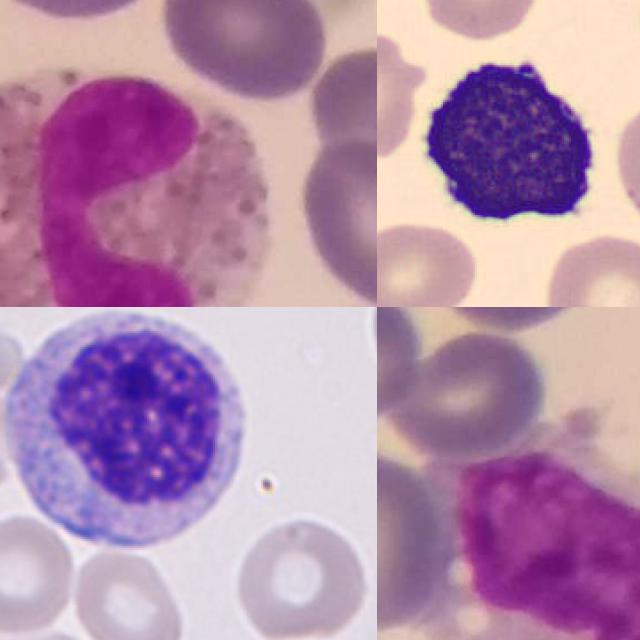Eosinophil: (0, 68, 270, 307)
Lymphocyte: (0, 307, 259, 564), (409, 42, 610, 236)
Monocyte: (447, 435, 640, 640)
RBC: (233, 510, 375, 640), (70, 544, 188, 640), (0, 510, 78, 636), (377, 215, 480, 307), (537, 229, 640, 307), (377, 26, 432, 165), (409, 0, 546, 42), (0, 382, 22, 498)
